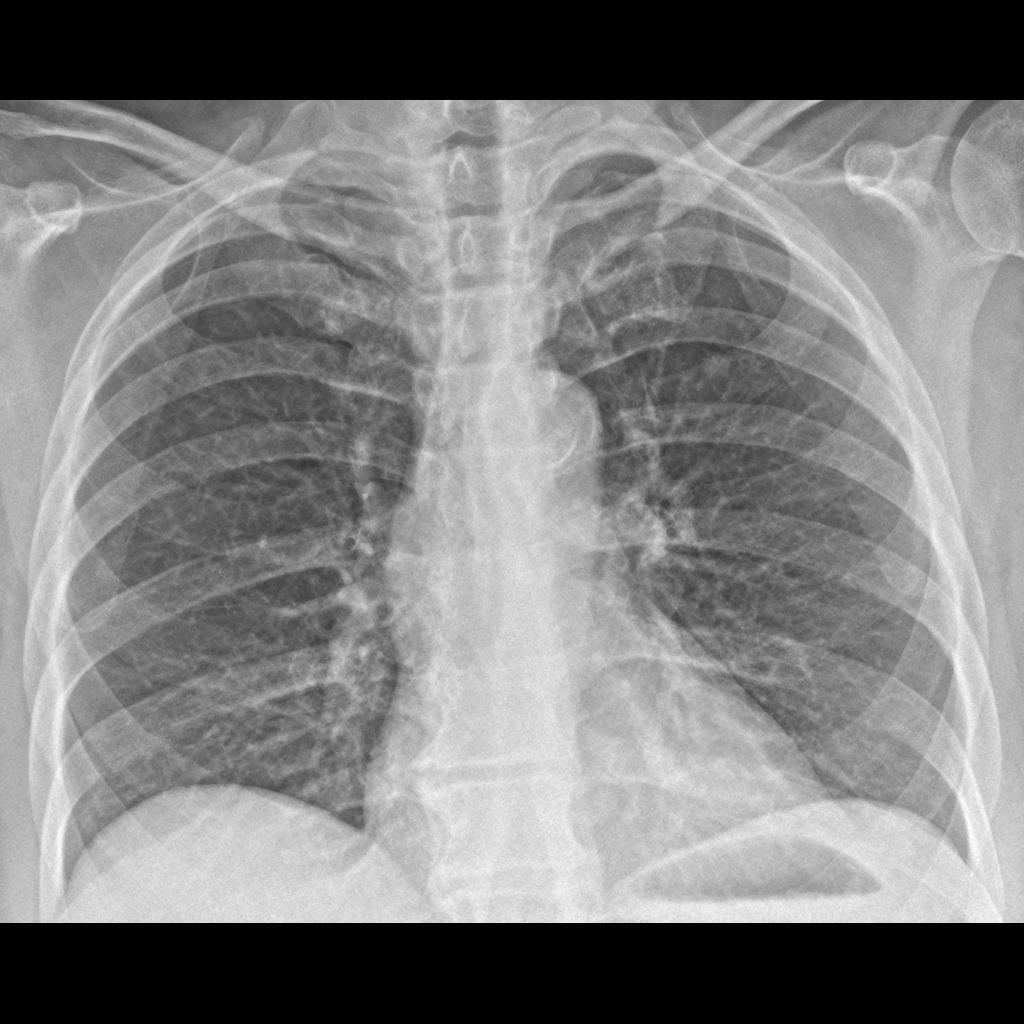Nodule: (697, 338, 746, 392)
